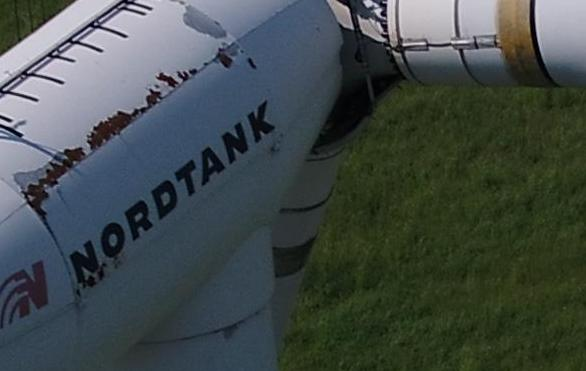damage: (27, 147, 86, 217), (86, 105, 142, 150), (181, 4, 227, 39), (155, 70, 179, 87), (216, 48, 232, 68), (147, 88, 163, 107), (176, 67, 197, 81)
